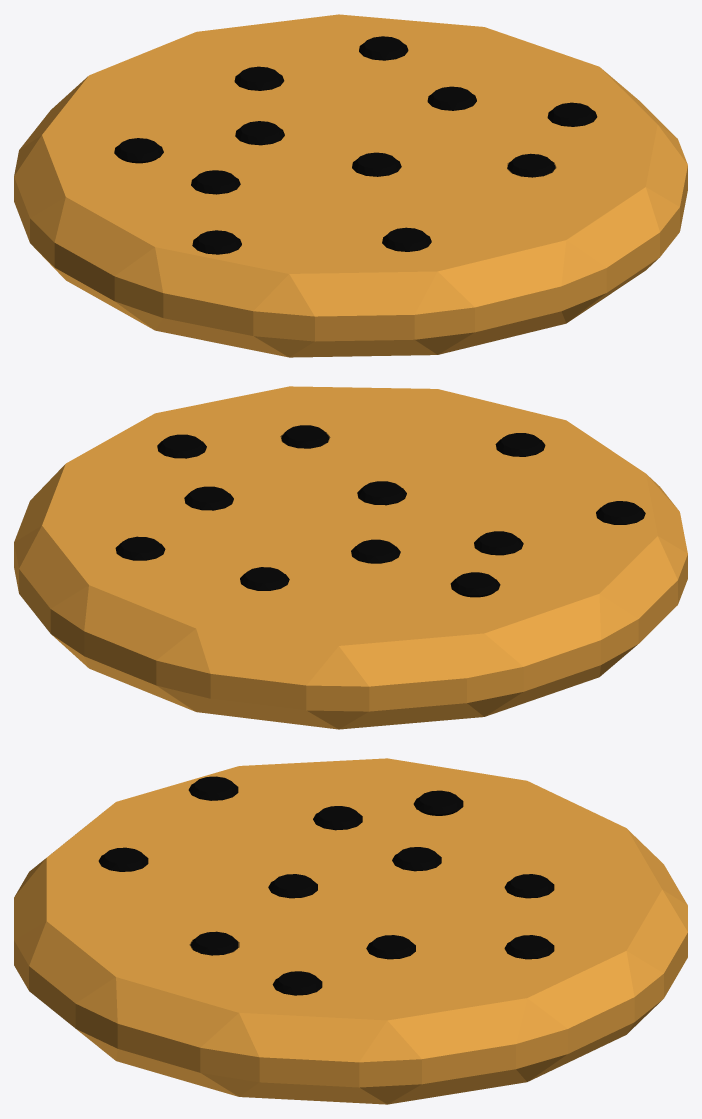
The model's file is cookie.fbx.
The picture shows the model from 3 angles, top to bottom: view 1: azimuth 30°, elevation 25°; view 2: azimuth 150°, elevation 25°; view 3: azimuth 270°, elevation 25°; orthographic projection.
Visible parts, largest first — view 1: Cookie; view 2: Cookie; view 3: Cookie.
Part boxes in pixels (left/top/right/bottom): Cookie: left=14, top=14, right=687, bottom=357; Cookie: left=14, top=386, right=687, bottom=729; Cookie: left=14, top=758, right=687, bottom=1104.
Size of the model in its own units: 39.76 by 5.95 by 39.48.
